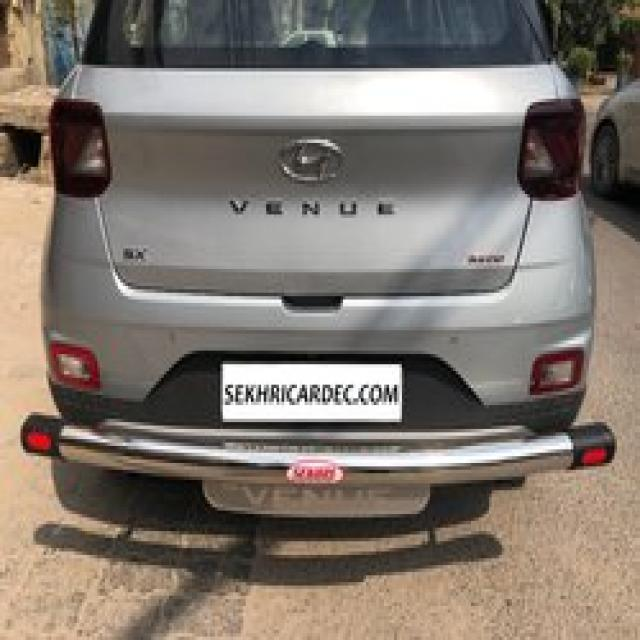Number-Plate: (224, 364, 403, 420)
